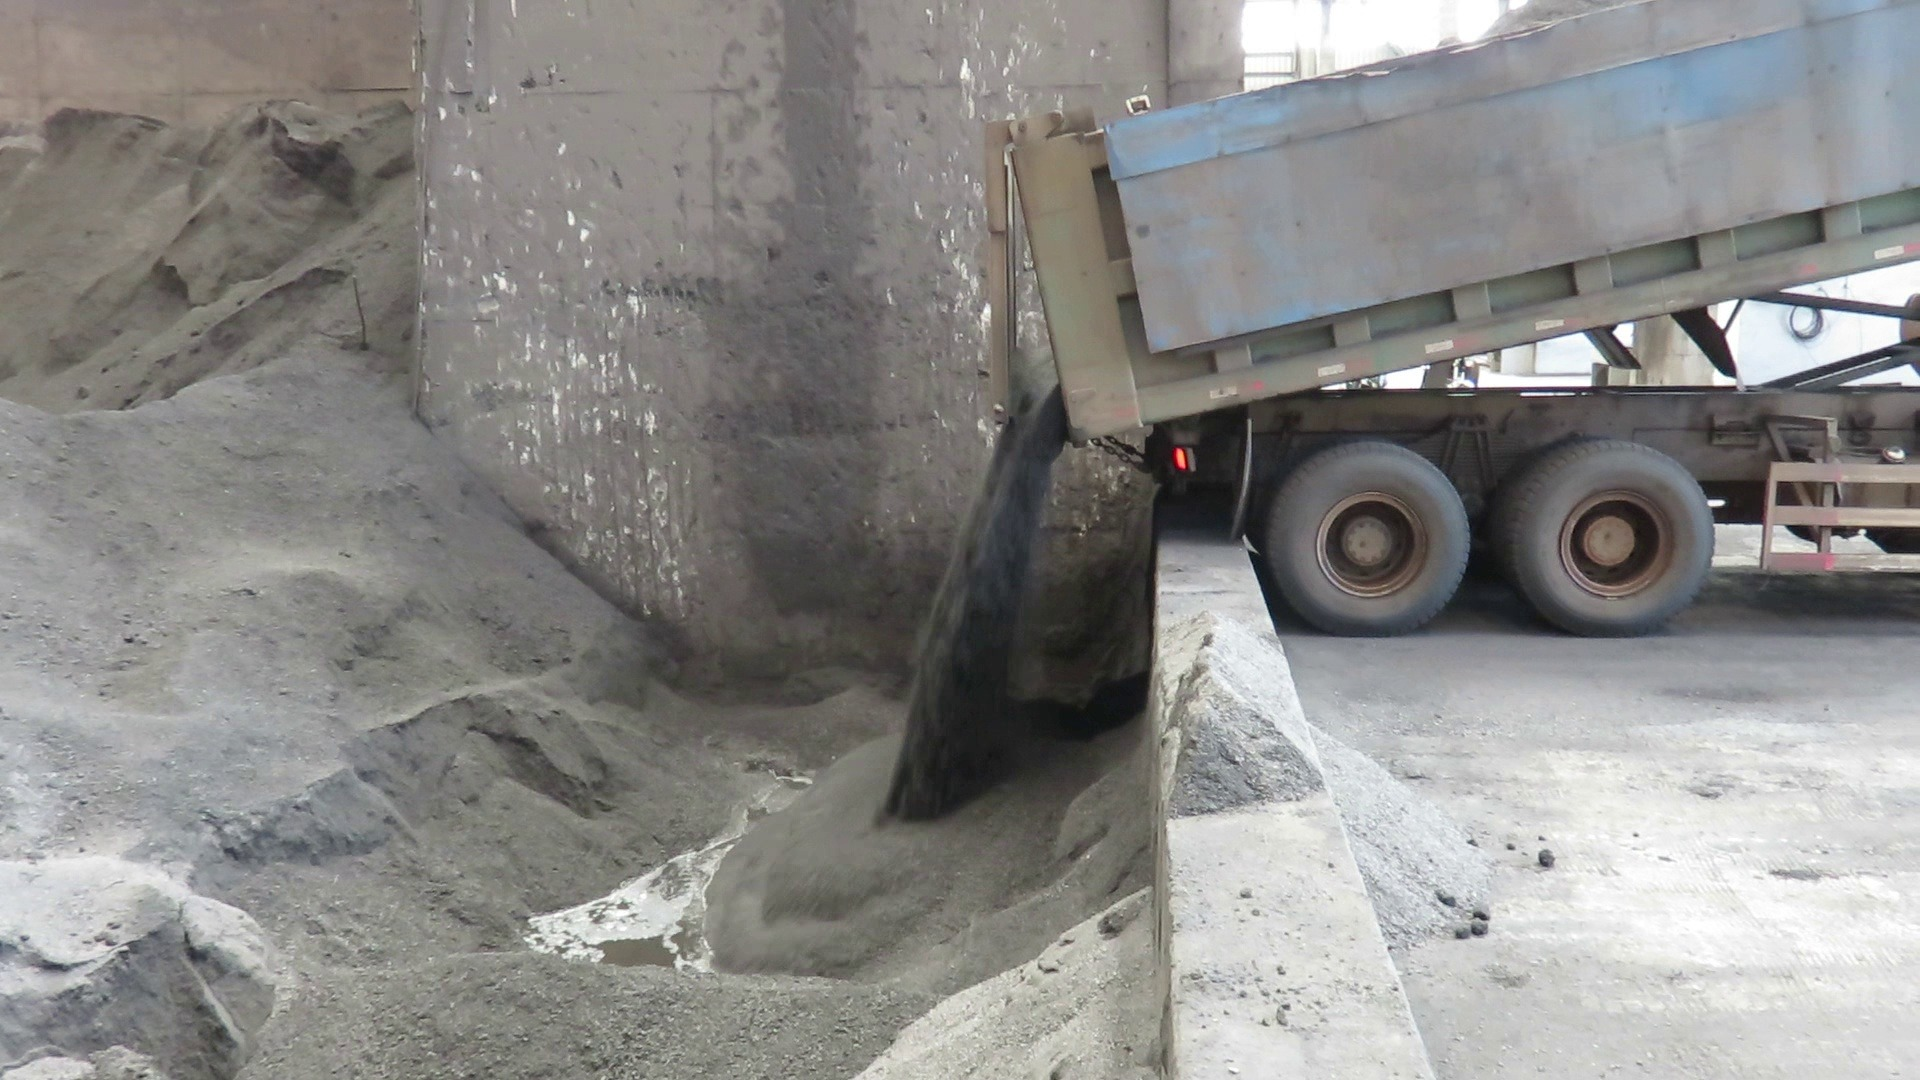truck: (980, 0, 1920, 638)
